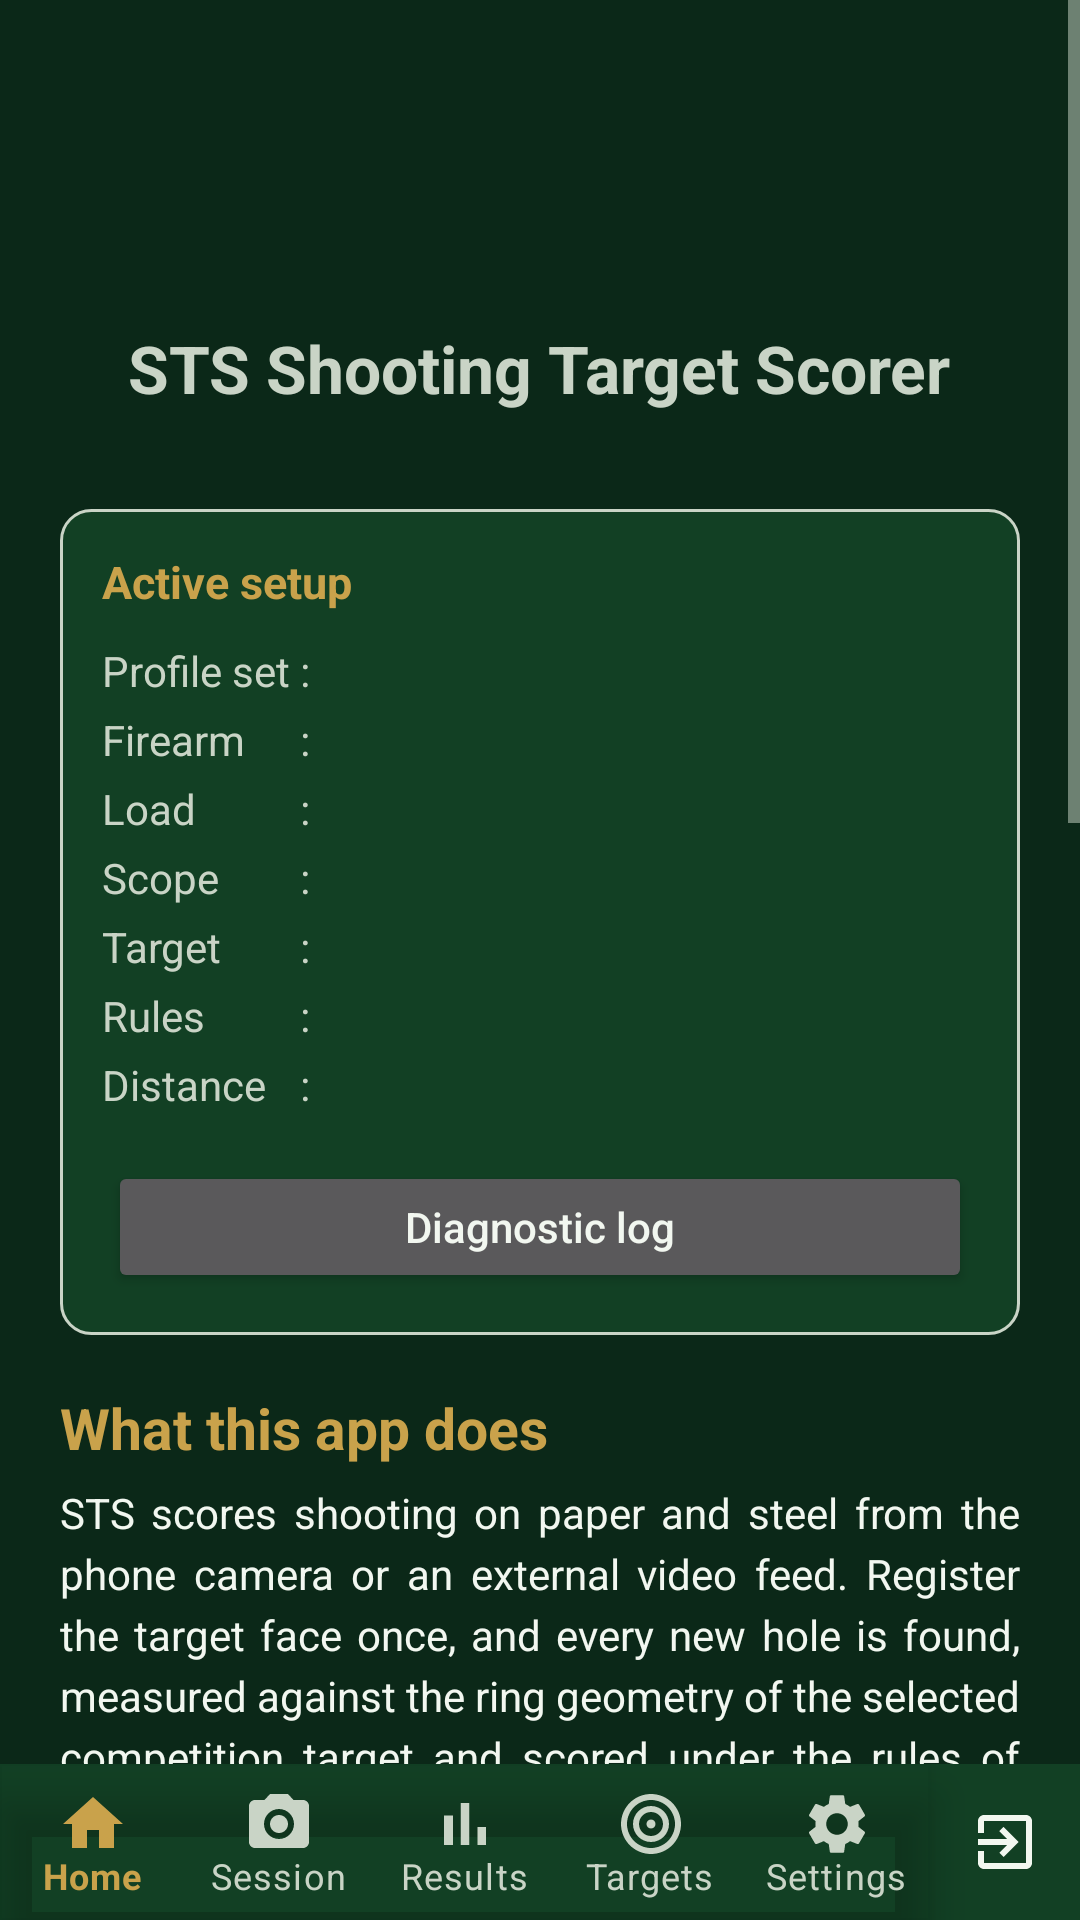

Point at icon controls on the screen. Image size 1080 x 1920, points as (x=x, y=y).
exit: (x=1005, y=1842)
